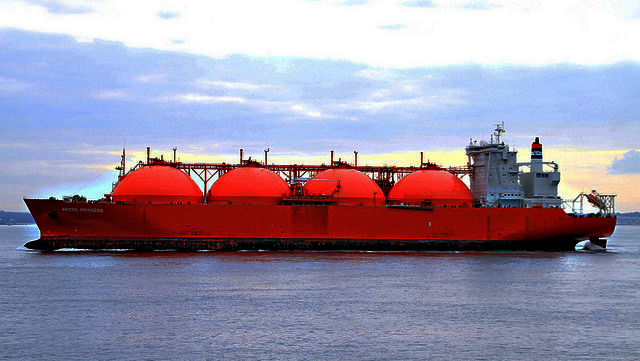LNG_ship: (23, 125, 621, 258)
